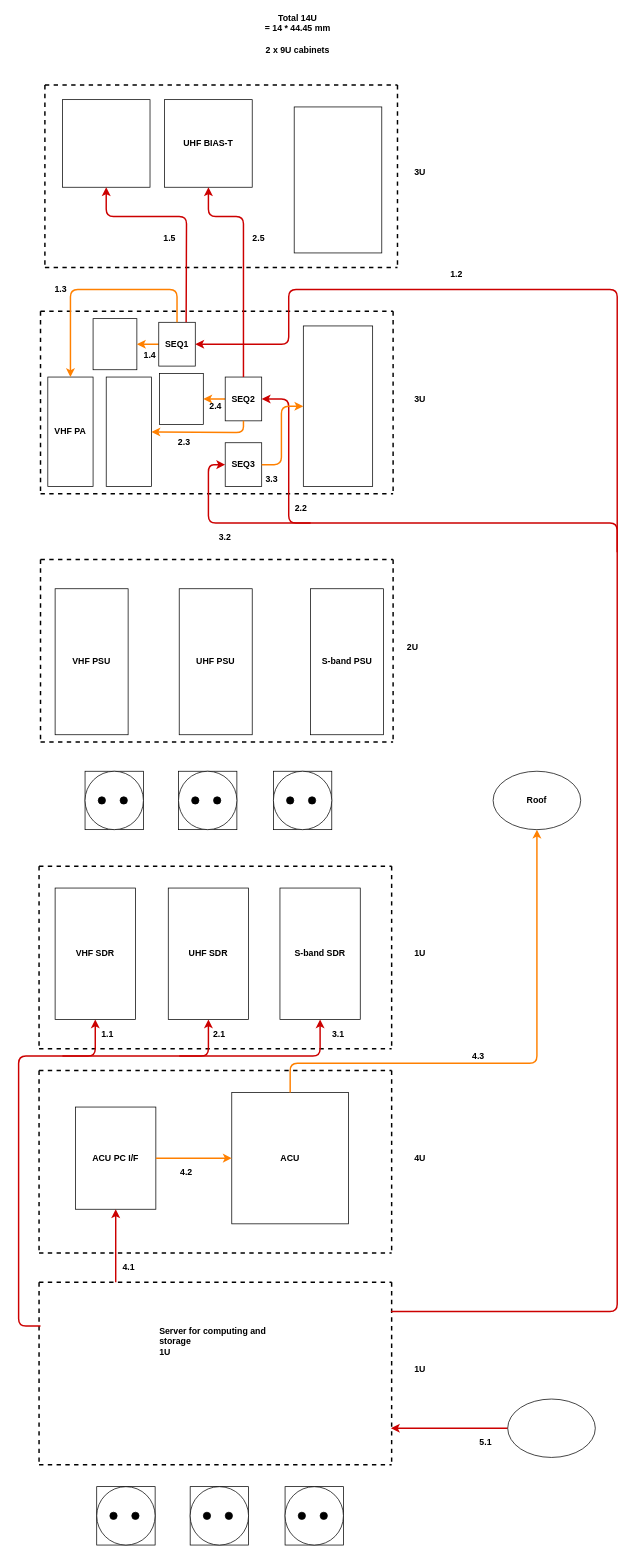
Some shapes in this 636 by 1558 pixel diagram are drawn without their labels. Each missing label, with the centre of its shape:
"RF SW UHF" goes at (x=114, y=344).
"RF SW VHF" goes at (x=181, y=398).
"S-band PA" goes at (x=338, y=406).
"SAGA 13.8VDC PSU" goes at (x=337, y=179).
"TCP/IP Interface" goes at (x=551, y=1427).
"UHF PA" goes at (x=128, y=431).
"VHF BIAS-T" goes at (x=106, y=143).
